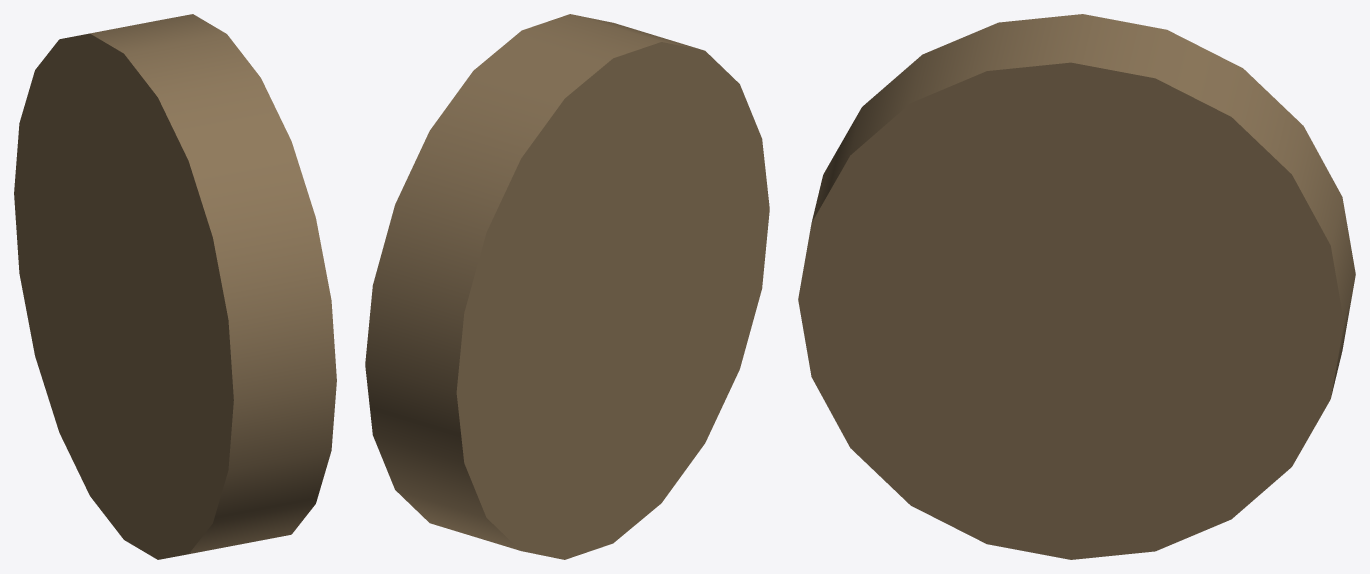
The model's file is TrainWheel.fbx.
3 views of the same model, side by side, from view 1: azimuth 30°, elevation 25°; view 2: azimuth 150°, elevation 25°; view 3: azimuth 270°, elevation 25° (orthographic). The views are drawn at different scales.
Parts seen in each view (by area): view 1: wheel2; view 2: wheel2; view 3: wheel2.
Part boxes in pixels (x1=…): wheel2: x1=14, y1=14, x2=336, y2=559; wheel2: x1=365, y1=14, x2=769, y2=559; wheel2: x1=798, y1=14, x2=1355, y2=559.
Size of the model in its own units: 0.2867 by 0.9226 by 0.9376.
